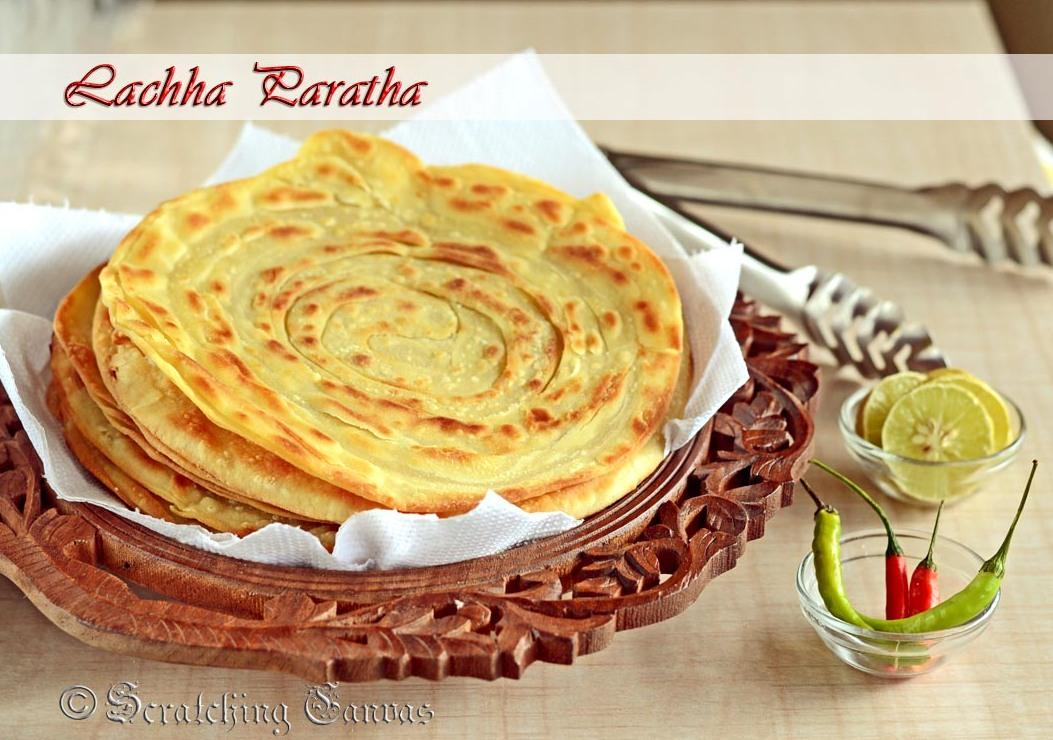paratha: (73, 169, 678, 502)
